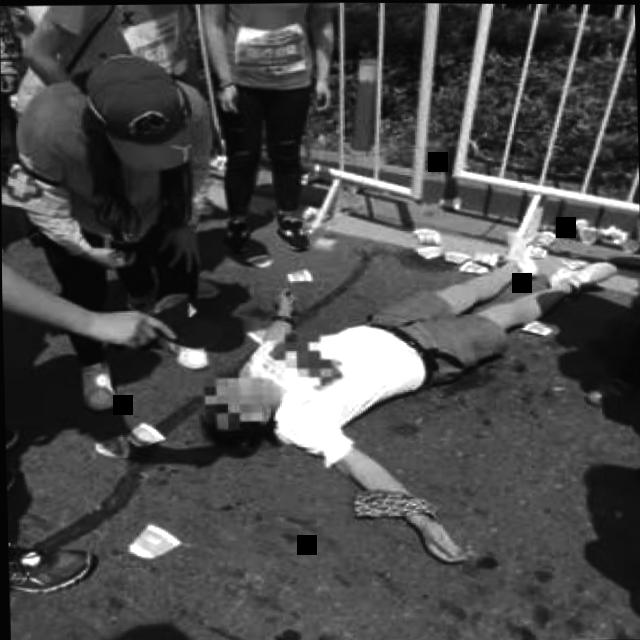Fall-Detected: (173, 213, 623, 576)
